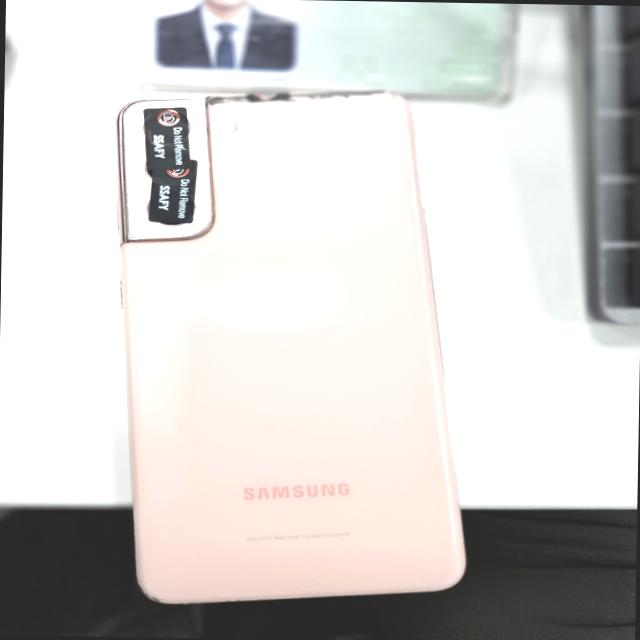phone: (107, 88, 476, 610)
sticker: (144, 106, 192, 177), (148, 158, 198, 226)
